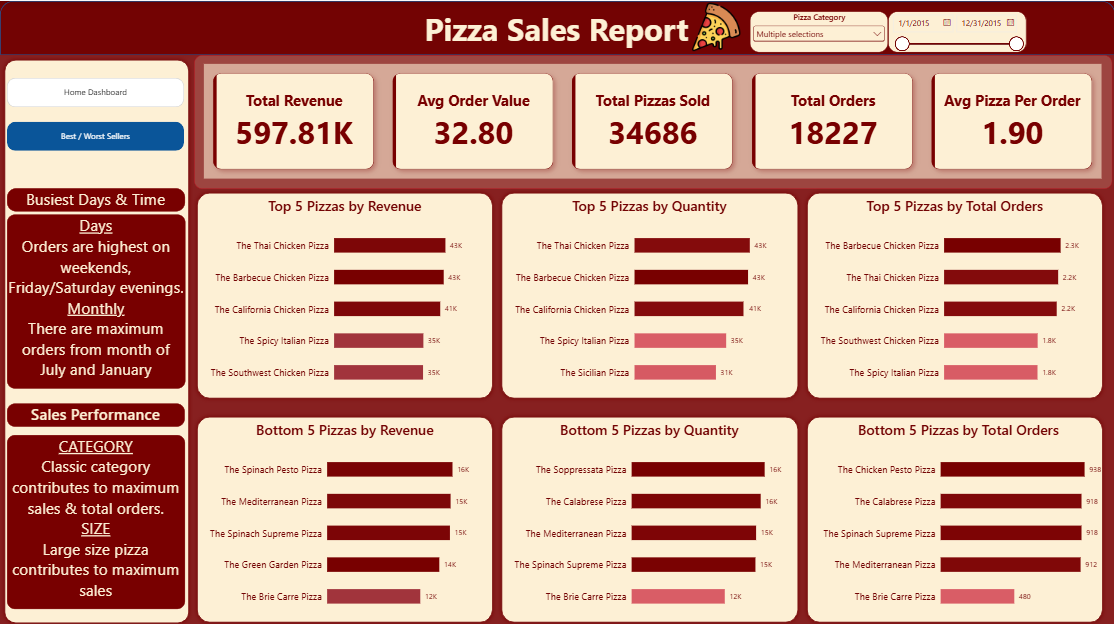

What the dashboard file says about the page in this screenshot:
{"tool":"powerbi","page":{"name":"Best / Worst Sellers","canvas":[1920,1080],"ordinal":1},"visuals":[{"type":"shape","box":[0,0,1920,93.3],"z":0},{"type":"shape","box":[0,93.3,333.3,986.7],"z":1000},{"type":"cardVisual","fields":{"Data":["pizza_sales.Total Revenue","pizza_sales.Avg Order Value","pizza_sales.Total Pizzas Sold","pizza_sales.Total Orders","pizza_sales.Avg Pizza Per Order"]},"box":[333.3,93.3,1580,230],"z":2000},{"type":"textbox","box":[710,13.3,500,80],"z":3000},{"type":"image","box":[1160,4,146.7,83.3],"z":4000},{"type":"shape","box":[332.5,322.5,525,370],"z":5000},{"type":"slicer","title":"Pizza Category","fields":{"Values":["pizza_sales.pizza_category"]},"box":[1290,17.5,237.5,70],"z":6000},{"type":"textbox","box":[12.5,322.5,306.7,40],"z":7000},{"type":"textbox","box":[12.5,367.5,307.5,300],"z":8000},{"type":"textbox","box":[12.5,692.5,306,40],"z":9000},{"type":"textbox","box":[12.5,747.5,307,300],"z":10000},{"type":"slicer","title":"Pizza Category","fields":{"Values":["pizza_sales.order_date"]},"box":[1530,17.5,237.5,70],"z":11000},{"type":"shape","box":[857.5,322.5,525,370],"z":12000},{"type":"shape","box":[1382.5,322.5,525,370],"z":13000},{"type":"shape","box":[332.5,710,525,370],"z":14000},{"type":"shape","box":[857.5,710,525,370],"z":15000},{"type":"shape","box":[1382.5,710,525,370],"z":16000},{"type":"barChart","title":"Top 5 Pizzas by Revenue","fields":{"Category":["pizza_sales.pizza_name"],"Y":["pizza_sales.Total Revenue"]},"box":[332.5,322.5,525,370],"z":17000},{"type":"barChart","title":"Bottom 5 Pizzas by Revenue","fields":{"Category":["pizza_sales.pizza_name"],"Y":["pizza_sales.Total Revenue"]},"box":[332.5,710,525,370],"z":18000},{"type":"barChart","title":"Top 5 Pizzas by Quantity","fields":{"Category":["pizza_sales.pizza_name"],"Y":["pizza_sales.Total Revenue"]},"box":[857.5,322.5,525,370],"z":19000},{"type":"barChart","title":"Bottom 5 Pizzas by Quantity","fields":{"Category":["pizza_sales.pizza_name"],"Y":["pizza_sales.Total Revenue"]},"box":[857.5,710,525,370],"z":20000},{"type":"barChart","title":"Top 5 Pizzas by Total Orders","fields":{"Category":["pizza_sales.pizza_name"],"Y":["pizza_sales.Total Orders"]},"box":[1382.5,322.5,525,370],"z":21000},{"type":"barChart","title":"Bottom 5 Pizzas by Total Orders","fields":{"Category":["pizza_sales.pizza_name"],"Y":["pizza_sales.Total Orders"]},"box":[1387.5,710,525,370],"z":22000},{"type":"pageNavigator","box":[12.5,207.5,305,50],"z":23000},{"type":"pageNavigator","box":[11.8,132.6,305,50],"z":24000}]}

Visuals, with their boxes in screenshot pixels (x1, y1, x2, y2), scaled from the page's 1920x1080 canvas onto the 1114x624 screenshot:
shape: l=0, t=0, r=1113, b=54
shape: l=0, t=54, r=193, b=623
cardVisual - pizza_sales.Total Revenue x pizza_sales.Avg Order Value: l=193, t=54, r=1110, b=187
textbox: l=412, t=8, r=702, b=54
image: l=673, t=2, r=758, b=50
shape: l=193, t=186, r=498, b=400
"Pizza Category" slicer: l=748, t=10, r=886, b=51
textbox: l=7, t=186, r=185, b=209
textbox: l=7, t=212, r=186, b=386
textbox: l=7, t=400, r=185, b=423
textbox: l=7, t=432, r=185, b=605
"Pizza Category" slicer: l=888, t=10, r=1026, b=51
shape: l=498, t=186, r=802, b=400
shape: l=802, t=186, r=1107, b=400
shape: l=193, t=410, r=498, b=623
shape: l=498, t=410, r=802, b=623
shape: l=802, t=410, r=1107, b=623
"Top 5 Pizzas by Revenue" barChart: l=193, t=186, r=498, b=400
"Bottom 5 Pizzas by Revenue" barChart: l=193, t=410, r=498, b=623
"Top 5 Pizzas by Quantity" barChart: l=498, t=186, r=802, b=400
"Bottom 5 Pizzas by Quantity" barChart: l=498, t=410, r=802, b=623
"Top 5 Pizzas by Total Orders" barChart: l=802, t=186, r=1107, b=400
"Bottom 5 Pizzas by Total Orders" barChart: l=805, t=410, r=1110, b=623
pageNavigator: l=7, t=120, r=184, b=149
pageNavigator: l=7, t=77, r=184, b=106
